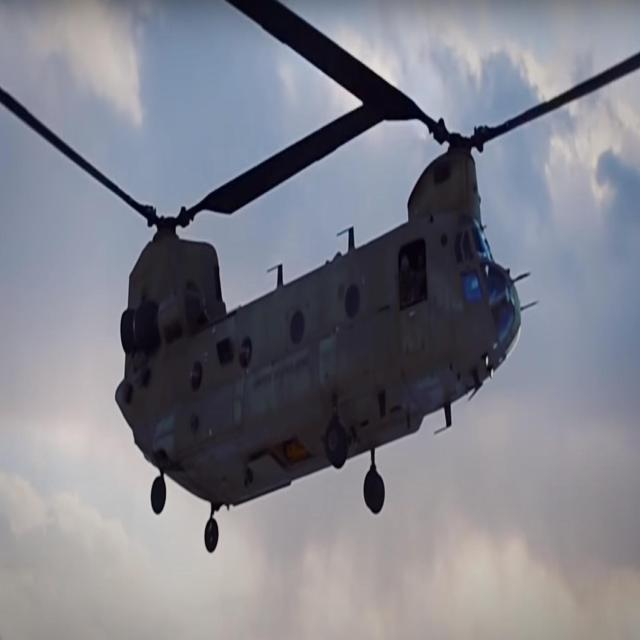Helicopter: (56, 74, 522, 562)
